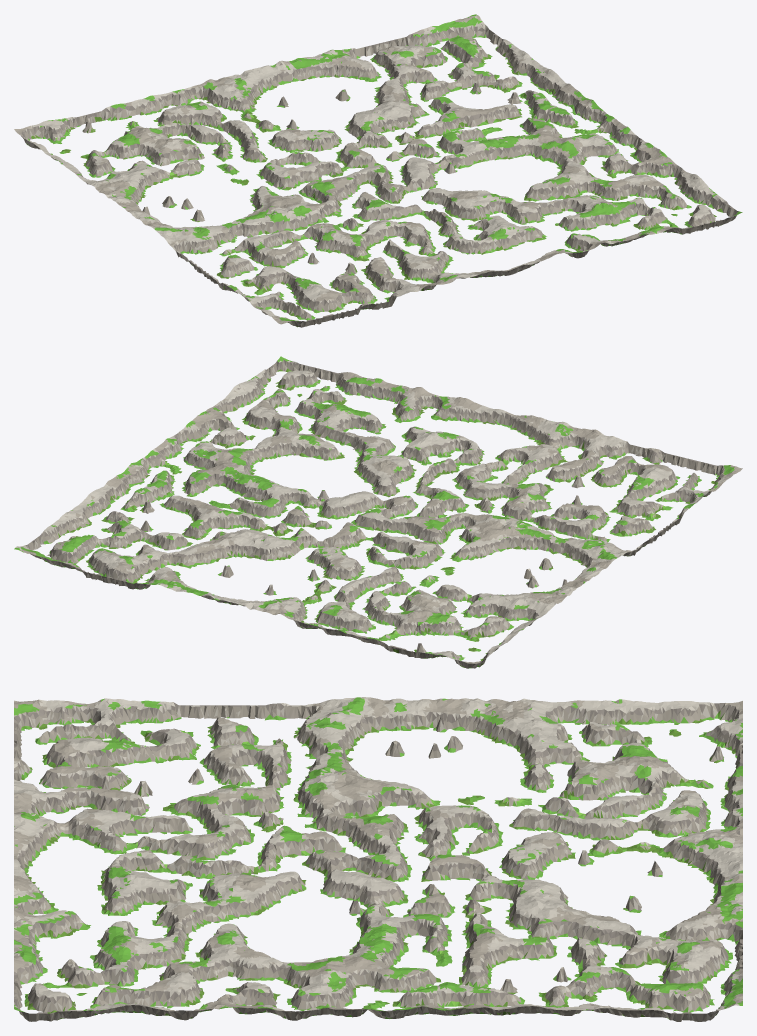
Rendered from Dungeon-1C-Relief.fbx.
3 renders of one model, top to bottom at view 1: azimuth 30°, elevation 25°; view 2: azimuth 150°, elevation 25°; view 3: azimuth 270°, elevation 25°, orthographic. The views are drawn at different scales.
Parts seen in each view (by area): view 1: Dungeon-1C-Relief-c16, Dungeon-1C-Relief-c77, Dungeon-1C-Relief-c67, Dungeon-1C-Relief-c37, Dungeon-1C-Relief-c27, Dungeon-1C-Relief-c63, Dungeon-1C-Relief-c42, Dungeon-1C-Relief-c23, Dungeon-1C-Relief-c61, Dungeon-1C-Relief-c74, Dungeon-1C-Relief-c55, Dungeon-1C-Relief-c71 (+49 smaller); view 2: Dungeon-1C-Relief-c20, Dungeon-1C-Relief-c67, Dungeon-1C-Relief-c34, Dungeon-1C-Relief-c61, Dungeon-1C-Relief-c54, Dungeon-1C-Relief-c22, Dungeon-1C-Relief-c27, Dungeon-1C-Relief-c72, Dungeon-1C-Relief-c71, Dungeon-1C-Relief-c12, Dungeon-1C-Relief-c56, Dungeon-1C-Relief-c42 (+48 smaller); view 3: Dungeon-1C-Relief-c05, Dungeon-1C-Relief-c03, Dungeon-1C-Relief-c23, Dungeon-1C-Relief-c06, Dungeon-1C-Relief-c00, Dungeon-1C-Relief-c61, Dungeon-1C-Relief-c41, Dungeon-1C-Relief-c73, Dungeon-1C-Relief-c10, Dungeon-1C-Relief-c74, Dungeon-1C-Relief-c62, Dungeon-1C-Relief-c67 (+50 smaller).
Boxes of the visible parts, x1,y1,x2,y2 form: Dungeon-1C-Relief-c16: (107, 127, 194, 166); Dungeon-1C-Relief-c77: (418, 14, 508, 62); Dungeon-1C-Relief-c67: (361, 31, 446, 77); Dungeon-1C-Relief-c37: (188, 71, 261, 121); Dungeon-1C-Relief-c27: (130, 88, 220, 127); Dungeon-1C-Relief-c63: (494, 130, 584, 169); Dungeon-1C-Relief-c42: (420, 189, 498, 226); Dungeon-1C-Relief-c23: (263, 186, 342, 230); Dungeon-1C-Relief-c61: (567, 179, 646, 222); Dungeon-1C-Relief-c74: (518, 89, 609, 136); Dungeon-1C-Relief-c55: (370, 100, 460, 139); Dungeon-1C-Relief-c71: (622, 164, 708, 208); Dungeon-1C-Relief-c20: (536, 425, 626, 474); Dungeon-1C-Relief-c67: (72, 548, 162, 588); Dungeon-1C-Relief-c34: (345, 511, 435, 555); Dungeon-1C-Relief-c61: (272, 398, 361, 441); Dungeon-1C-Relief-c54: (238, 481, 320, 526); Dungeon-1C-Relief-c22: (475, 483, 550, 521); Dungeon-1C-Relief-c27: (303, 601, 393, 642); Dungeon-1C-Relief-c72: (181, 406, 268, 448); Dungeon-1C-Relief-c71: (214, 381, 296, 429); Dungeon-1C-Relief-c12: (530, 495, 611, 537); Dungeon-1C-Relief-c56: (163, 537, 253, 576); Dungeon-1C-Relief-c42: (360, 455, 445, 493); Dungeon-1C-Relief-c05: (468, 698, 561, 753); Dungeon-1C-Relief-c03: (286, 697, 379, 753); Dungeon-1C-Relief-c23: (293, 774, 379, 830); Dungeon-1C-Relief-c06: (560, 699, 652, 754); Dungeon-1C-Relief-c00: (14, 698, 105, 751); Dungeon-1C-Relief-c61: (104, 933, 197, 984); Dungeon-1C-Relief-c41: (104, 856, 196, 907); Dungeon-1C-Relief-c73: (286, 967, 379, 1020); Dungeon-1C-Relief-c10: (14, 739, 105, 792); Dungeon-1C-Relief-c74: (378, 971, 470, 1018); Dungeon-1C-Relief-c62: (195, 932, 288, 984); Dungeon-1C-Relief-c67: (651, 937, 742, 984).
Size of the model in its own units: 88 by 2.73 by 88.
